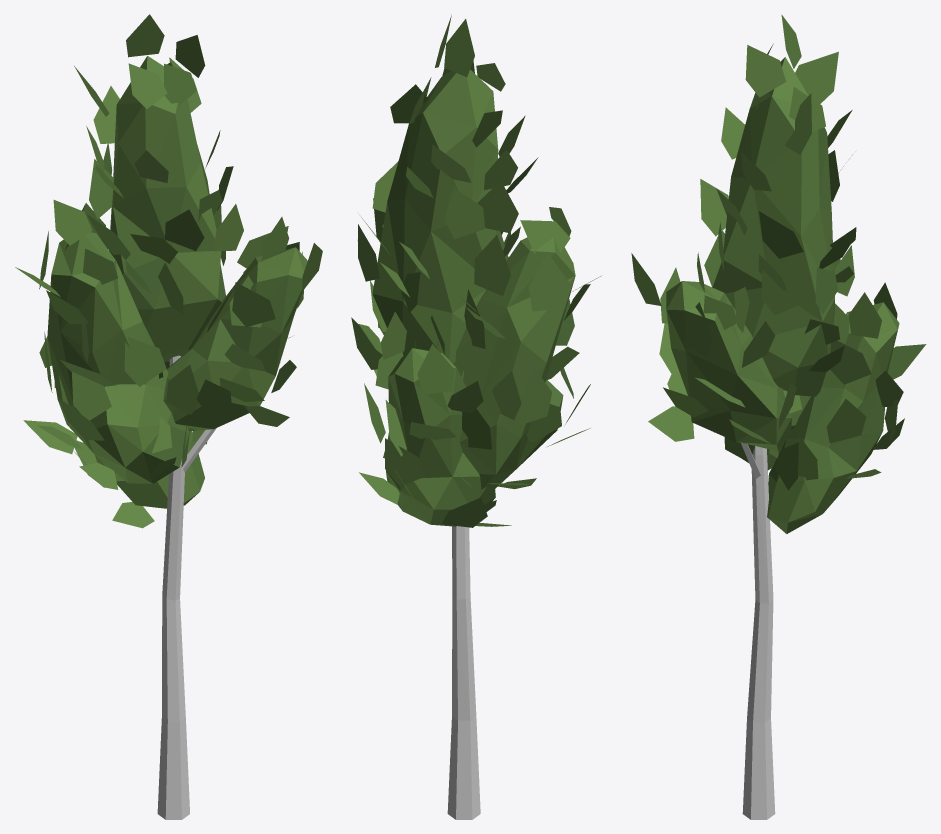
The model's file is SM_Tree_Poplar_Sapling_A.fbx.
3 views of the same model, side by side, from view 1: azimuth 30°, elevation 25°; view 2: azimuth 150°, elevation 25°; view 3: azimuth 270°, elevation 25° (orthographic).
Visible parts, largest first — view 1: tree-poplar-sapling-a; view 2: tree-poplar-sapling-a; view 3: tree-poplar-sapling-a.
Part boxes in pixels (box(x1,y1,x2,y2)): tree-poplar-sapling-a: box(15, 14, 322, 819); tree-poplar-sapling-a: box(351, 14, 600, 819); tree-poplar-sapling-a: box(631, 14, 926, 819).
Bounding box in the file's own units: 0.8517 × 2.52 × 0.8502.
